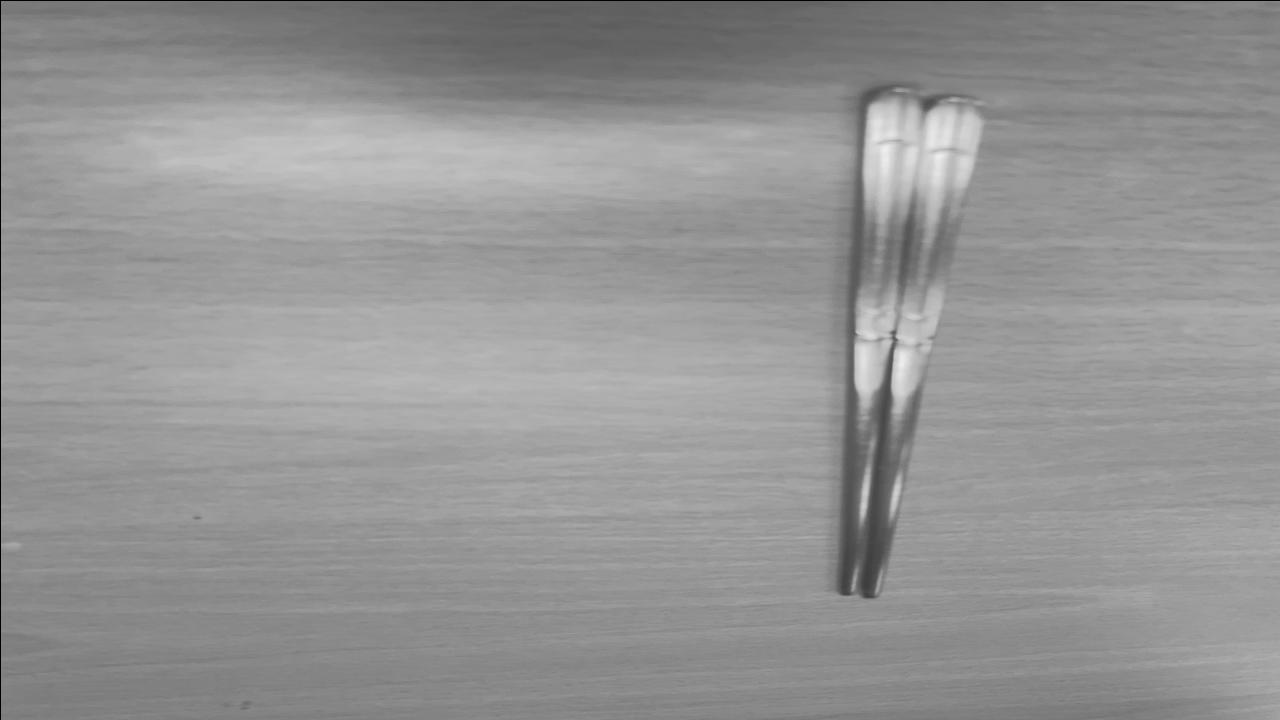chopstick: (838, 90, 982, 598)
